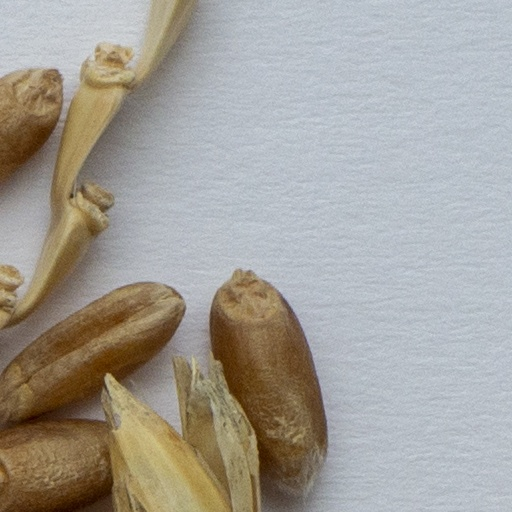Peel-poly: (0, 0, 199, 372), (109, 359, 260, 511)
